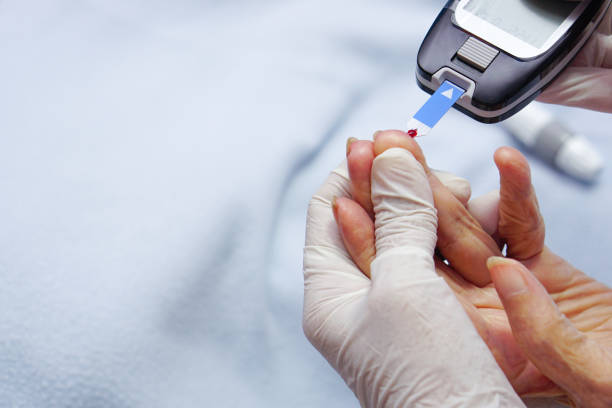blood: (401, 120, 419, 144)
